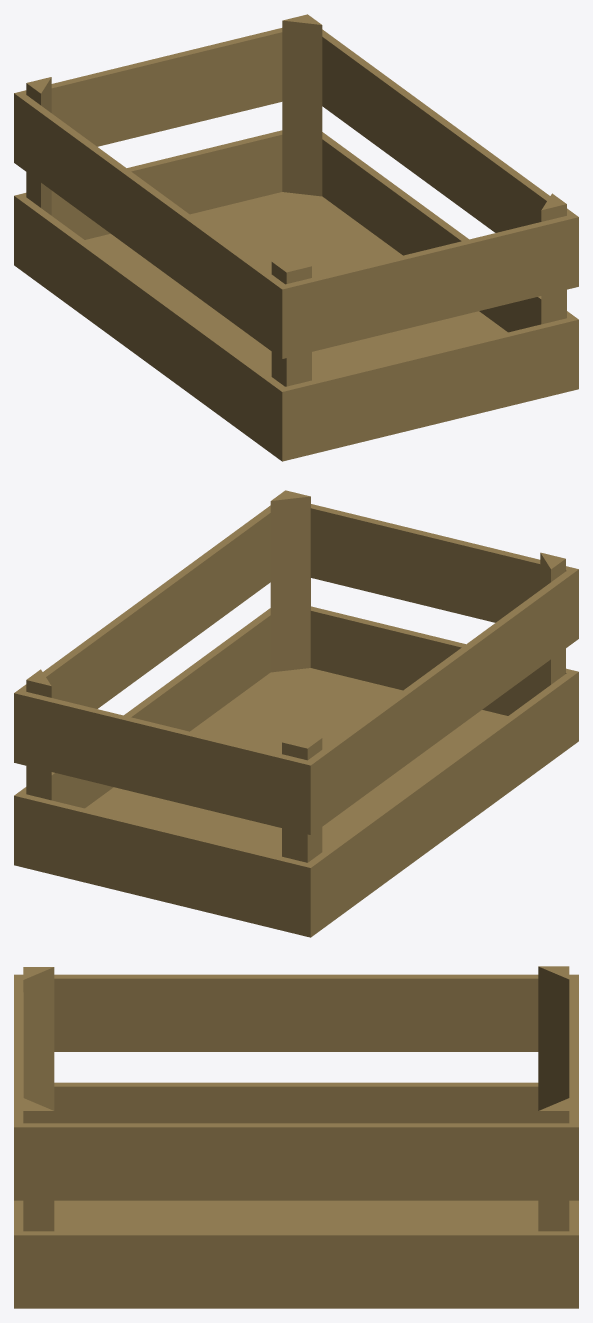
Rendered from crate1.fbx.
3 renders of one model, top to bottom at view 1: azimuth 30°, elevation 25°; view 2: azimuth 150°, elevation 25°; view 3: azimuth 270°, elevation 25°, orthographic. The views are drawn at different scales.
Parts seen in each view (by area): view 1: Crate; view 2: Crate; view 3: Crate.
Boxes of the visible parts, left/top/right/bottom form: Crate: left=14, top=14, right=578, bottom=461; Crate: left=14, top=490, right=578, bottom=937; Crate: left=14, top=966, right=578, bottom=1308.
Size of the model in its own units: 4.46 by 2.64 by 6.98.
